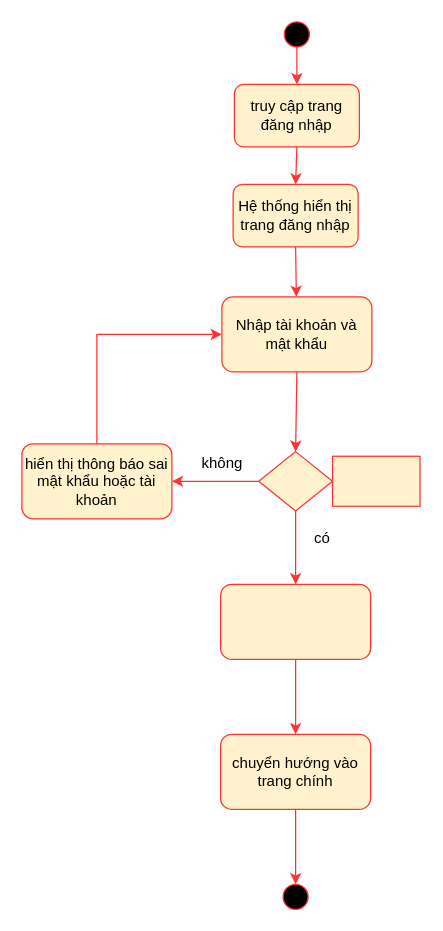
Image size: 443x931. Some labels were removed from this diagram. The centre of each missing label's shape, as x and y in pixels:
Thông báo đăng nhập thành công: the point at 295,621
xác thực hợp lệ ?: the point at 375,480
